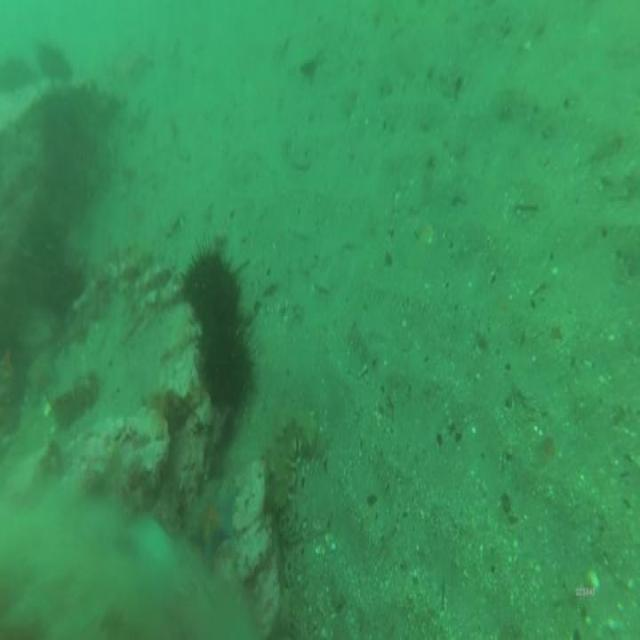echinus: (184, 250, 238, 330), (197, 326, 251, 402)
holothurian: (270, 410, 316, 538), (103, 252, 179, 304)
starfish: (188, 478, 238, 554)
